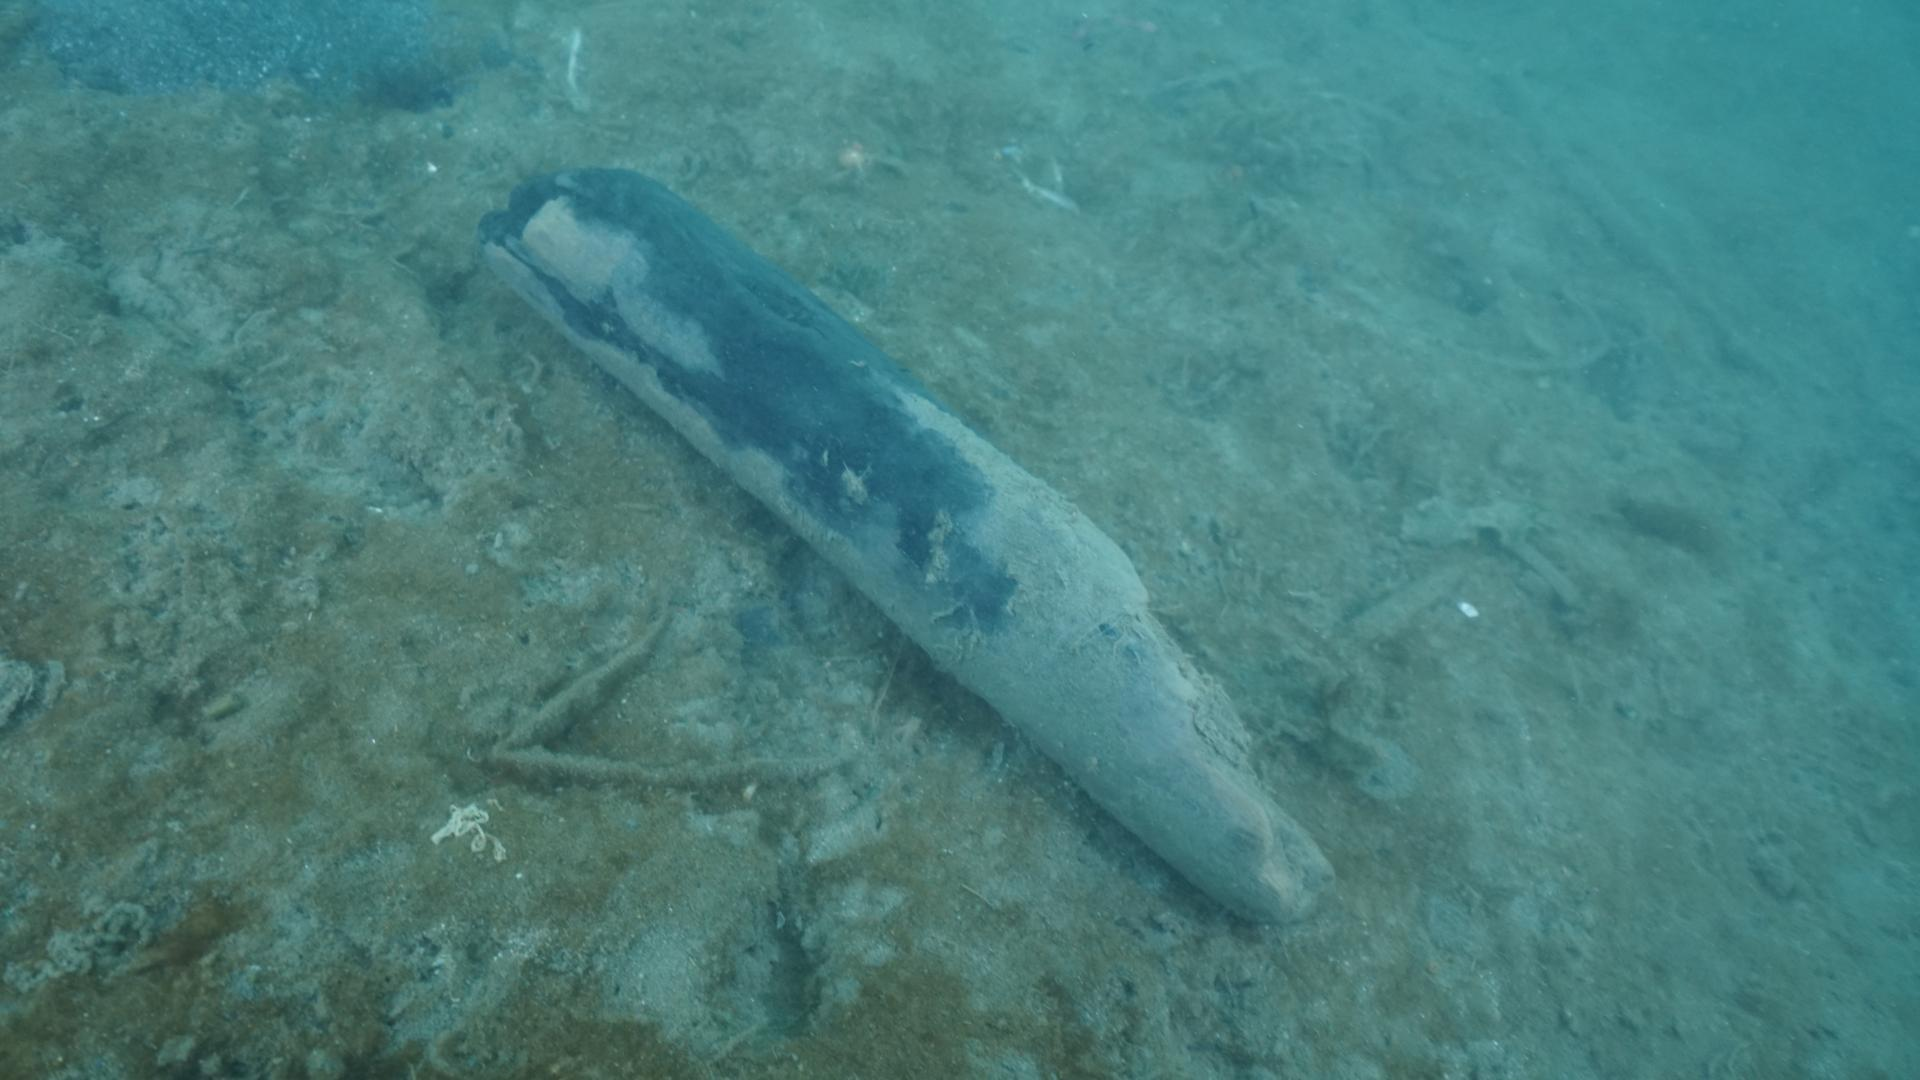wood: (469, 160, 1342, 927)
